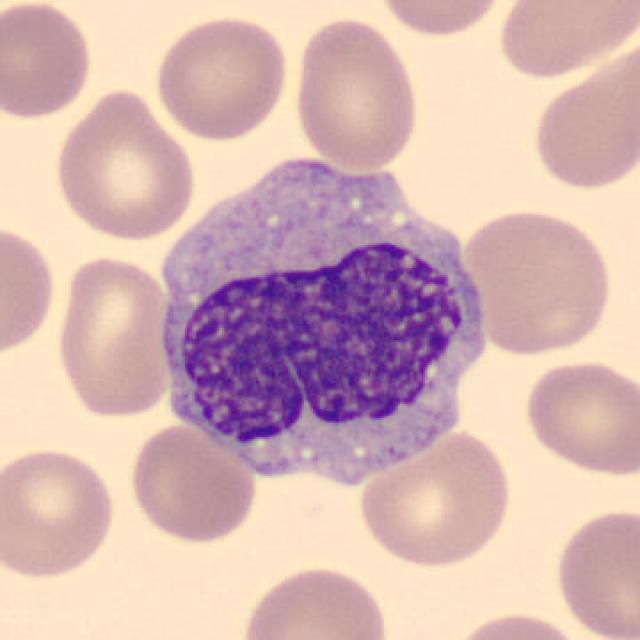Monocyte: (144, 144, 496, 492)
RBC: (459, 204, 615, 358), (50, 85, 199, 242), (354, 425, 516, 569), (290, 12, 423, 173), (52, 250, 174, 422), (151, 12, 292, 143), (124, 419, 260, 546), (528, 40, 636, 194), (0, 444, 119, 582), (519, 356, 638, 480), (236, 560, 394, 640), (551, 504, 638, 640), (492, 0, 638, 81), (0, 0, 96, 123), (0, 218, 59, 362), (372, 0, 514, 39), (444, 608, 588, 640)
